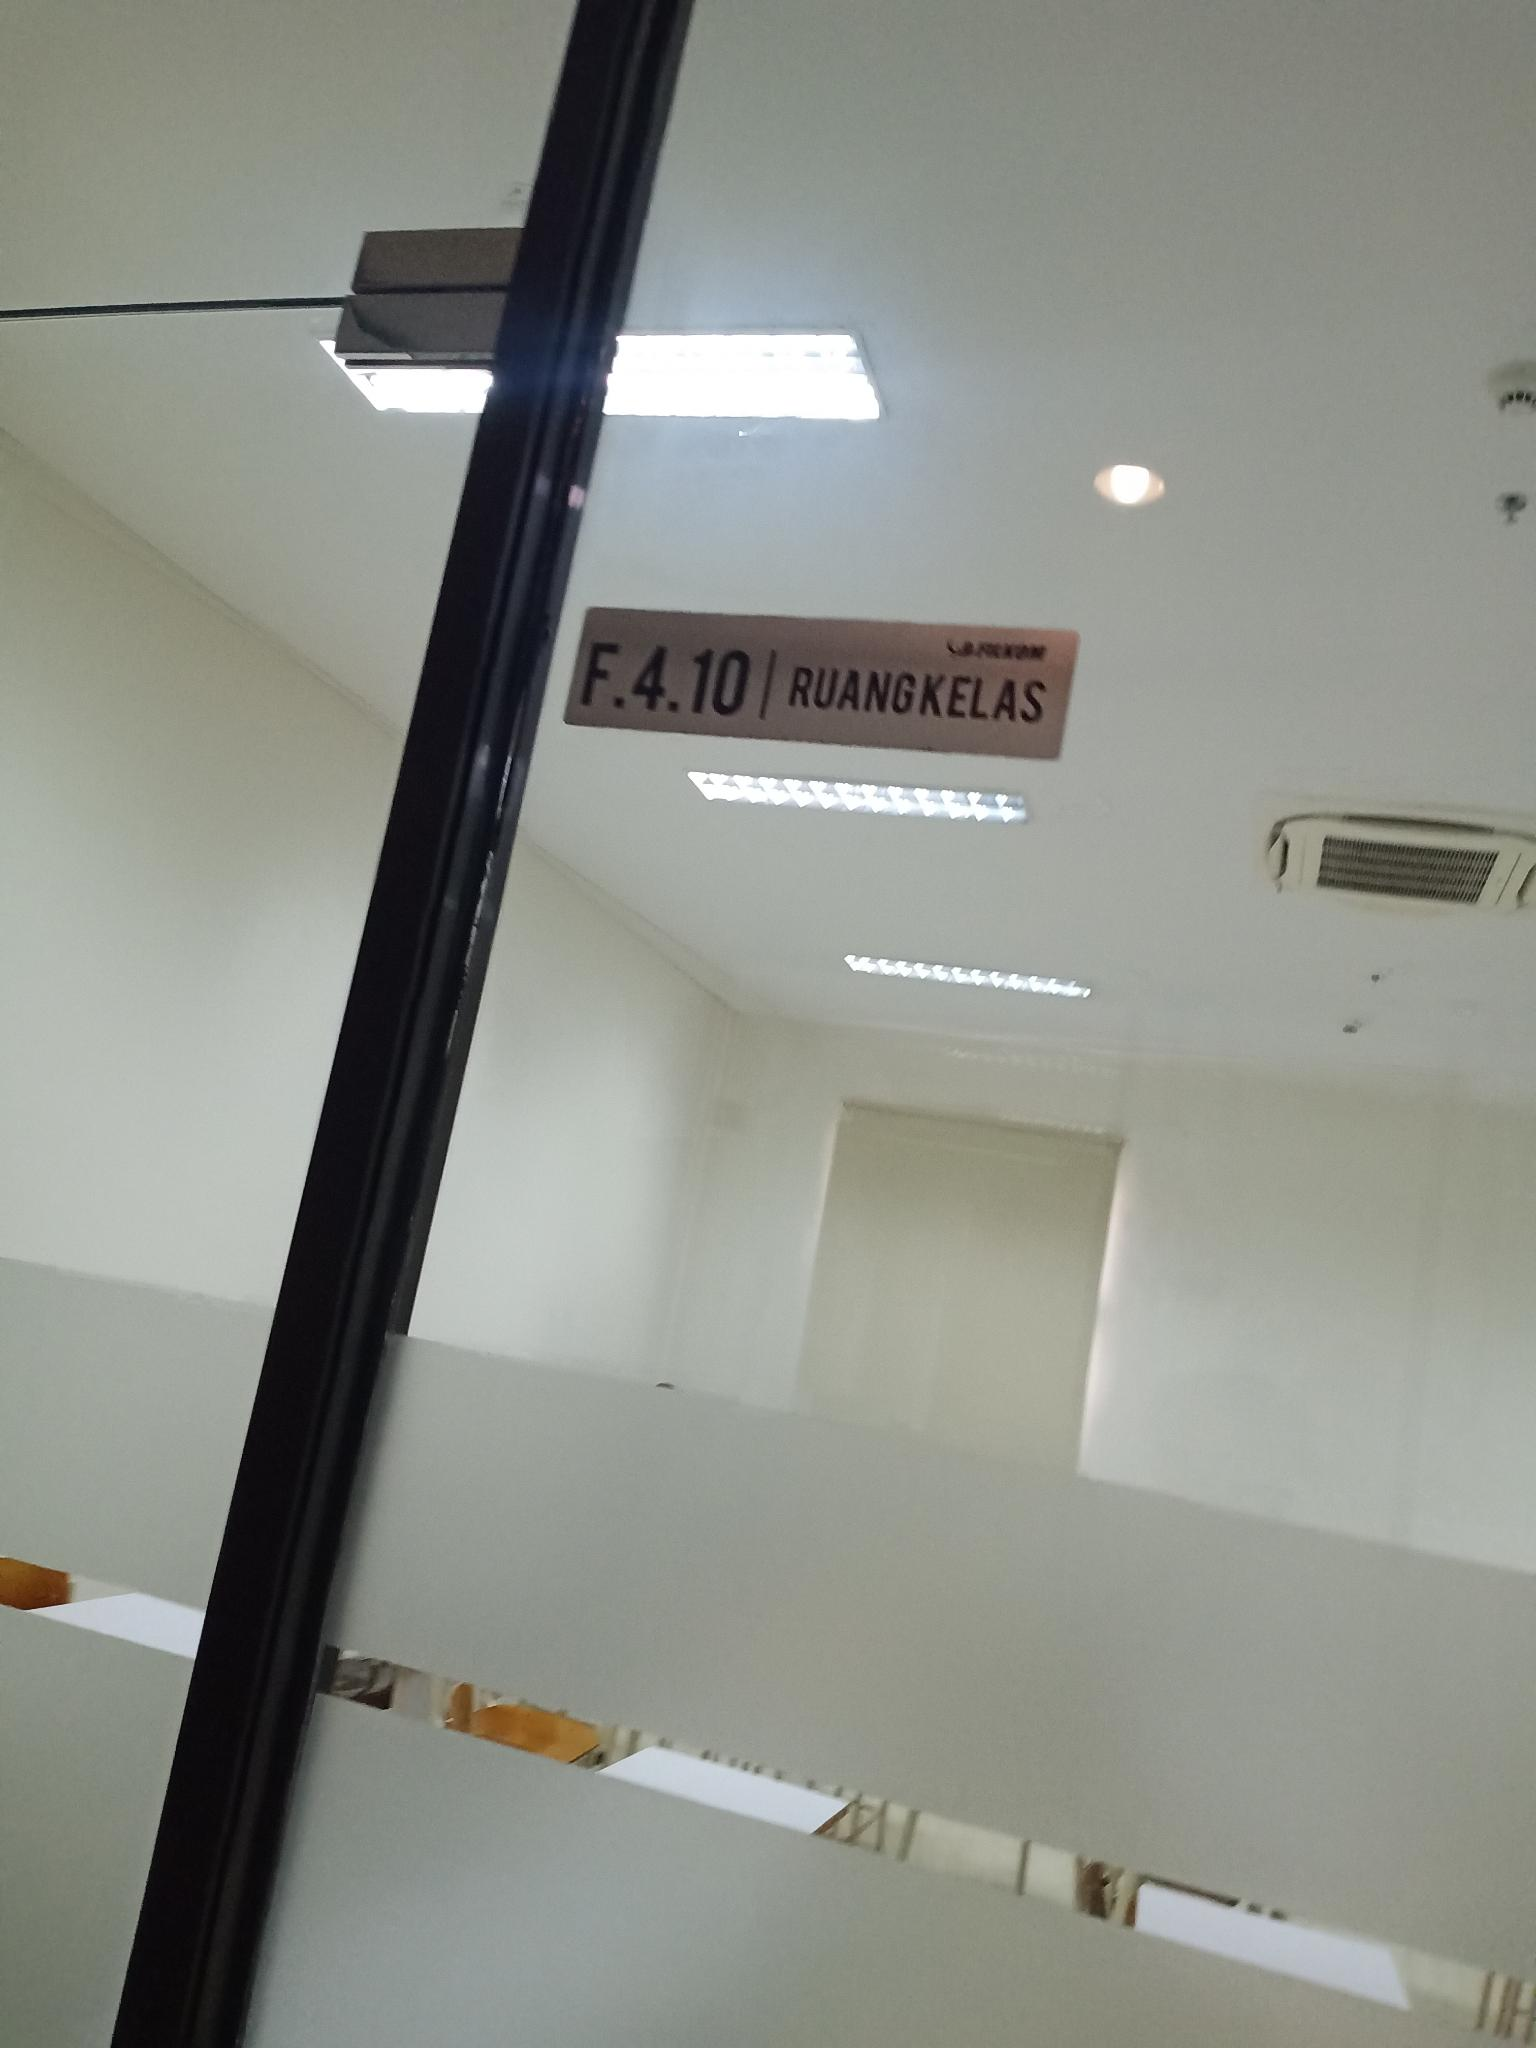plate: (563, 608, 1081, 761)
